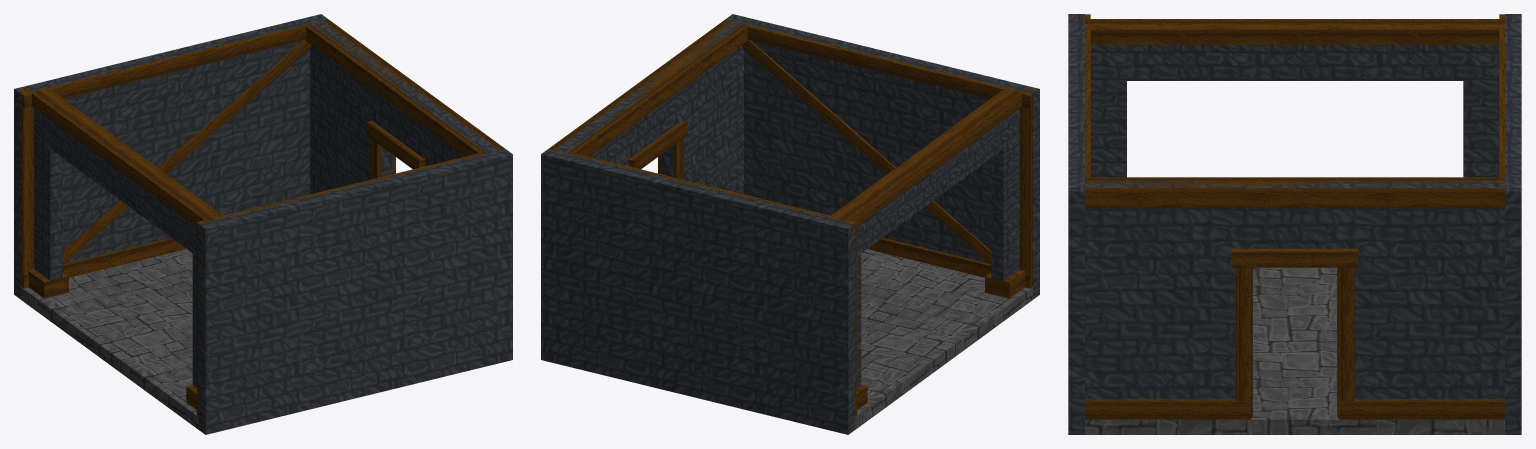
The model's file is Uebergangsraum.fbx.
The picture shows the model from 3 angles, left to right: view 1: azimuth 30°, elevation 25°; view 2: azimuth 150°, elevation 25°; view 3: azimuth 270°, elevation 25°; orthographic projection. The views are drawn at different scales.
Visible parts, largest first — view 1: Uebergangs Raum.004, Uebergangs Raum.005, Uebergangs Raum.003, Uebergangs Raum.001, Uebergangs Raum.002; view 2: Uebergangs Raum.005, Uebergangs Raum.004, Uebergangs Raum.003, Uebergangs Raum.001, Uebergangs Raum.002; view 3: Uebergangs Raum.003, Uebergangs Raum.002, Uebergangs Raum.001, Uebergangs Raum.004, Uebergangs Raum.005.
Part boxes in pixels (<box>): Uebergangs Raum.004: <box>196,149,512,434</box>; Uebergangs Raum.005: <box>14,14,327,299</box>; Uebergangs Raum.003: <box>304,19,504,194</box>; Uebergangs Raum.001: <box>21,249,198,429</box>; Uebergangs Raum.002: <box>28,87,225,409</box>; Uebergangs Raum.005: <box>541,149,857,434</box>; Uebergangs Raum.004: <box>726,14,1039,299</box>; Uebergangs Raum.003: <box>548,19,749,194</box>; Uebergangs Raum.001: <box>855,249,1032,429</box>; Uebergangs Raum.002: <box>828,87,1025,409</box>; Uebergangs Raum.003: <box>1085,177,1504,419</box>; Uebergangs Raum.002: <box>1085,19,1504,177</box>; Uebergangs Raum.001: <box>1085,267,1504,434</box>; Uebergangs Raum.004: <box>1068,14,1090,434</box>; Uebergangs Raum.005: <box>1499,14,1521,434</box>.
Size of the model in its own units: 500 by 540 by 320.
Materials: 1 (1 with a texture image).
